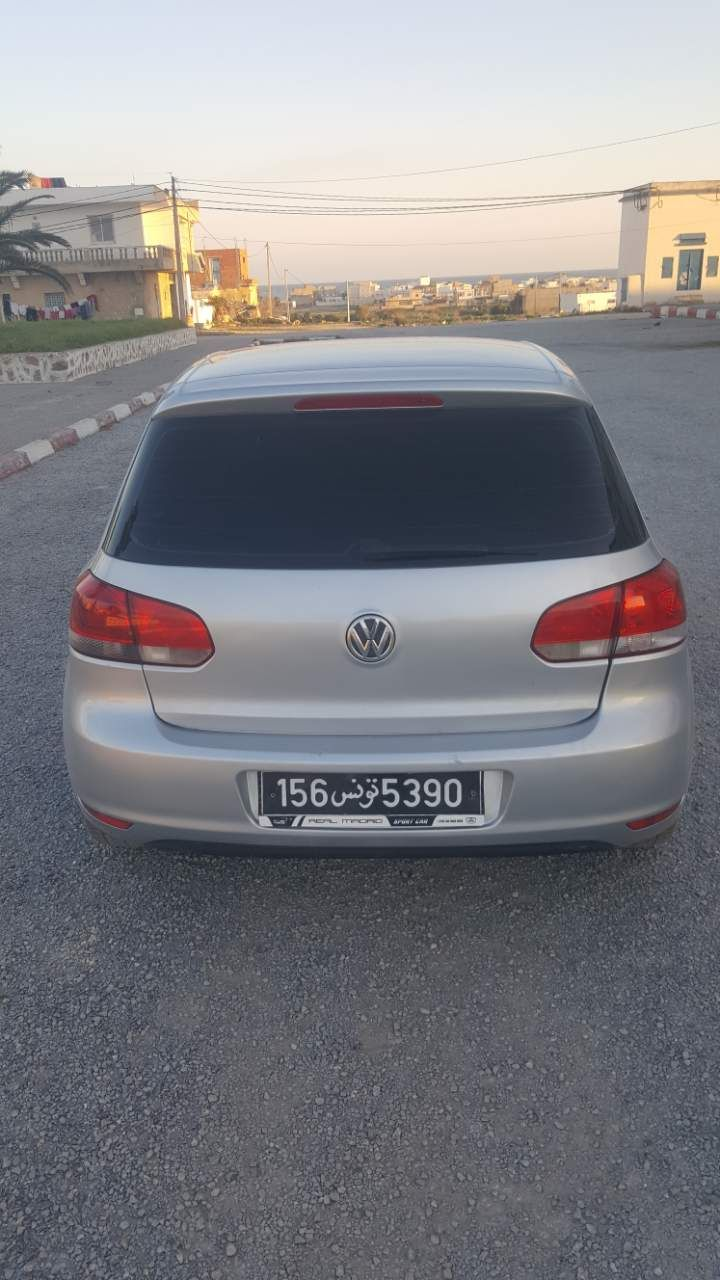LP: (258, 768, 488, 818)
